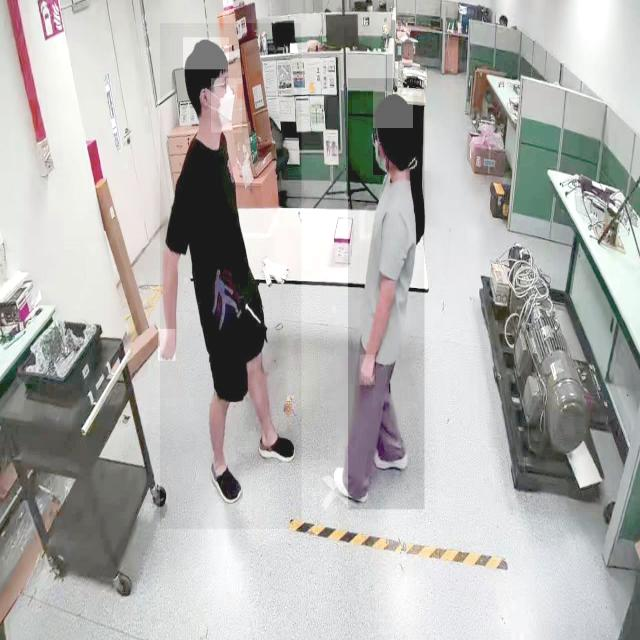face_mask: (211, 78, 242, 132), (373, 133, 389, 175)
hand_noglove: (158, 329, 176, 362), (360, 354, 376, 386)
head_nohelmet: (373, 91, 413, 129), (183, 38, 229, 70)
person: (160, 23, 302, 530), (348, 78, 425, 510)
shoes: (208, 451, 243, 506), (330, 466, 370, 506), (253, 434, 300, 466), (371, 439, 412, 474)
